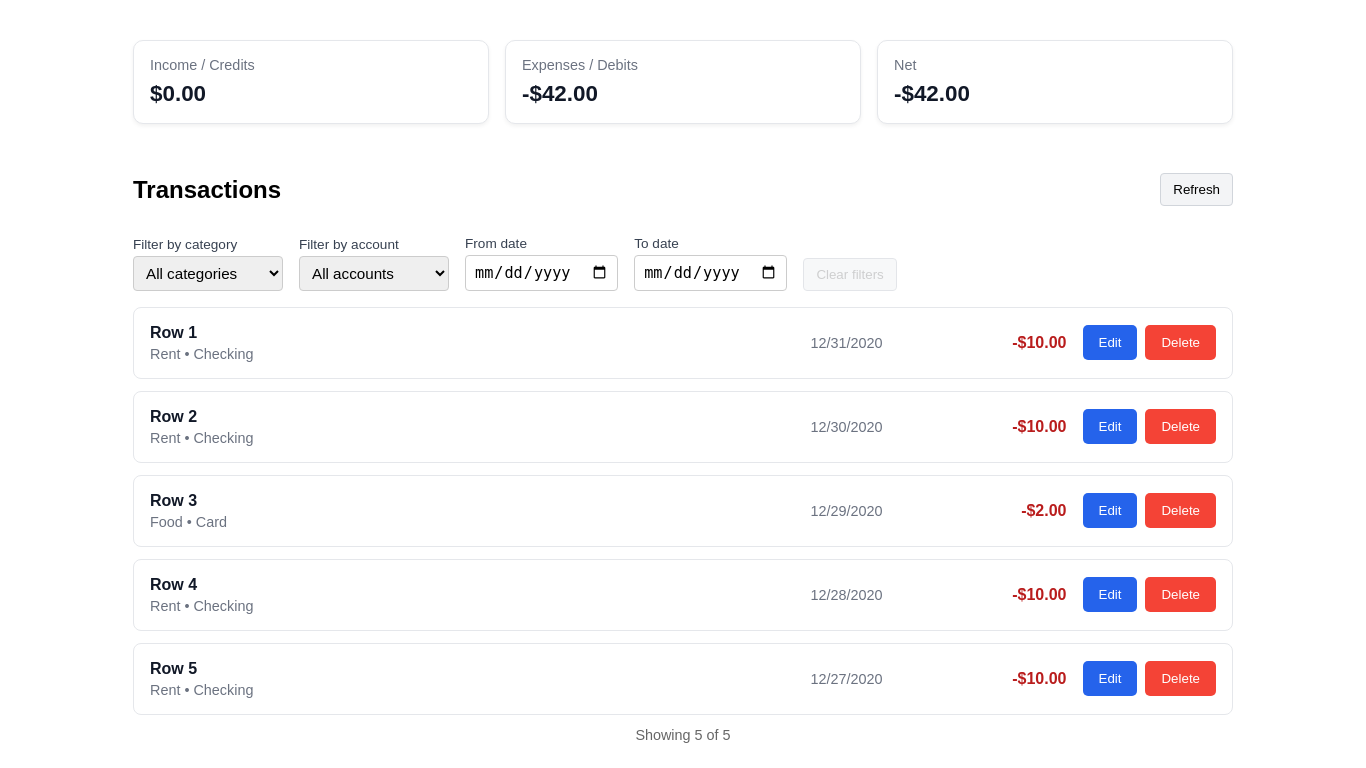
filtering › says so when nothing matches
expect the text "Showing 5 of 5" is shown: met, box [635,727,731,743]
Type "2021-06-01" into the date field labelled "From date" at [542, 273], box [465,255,618,291]
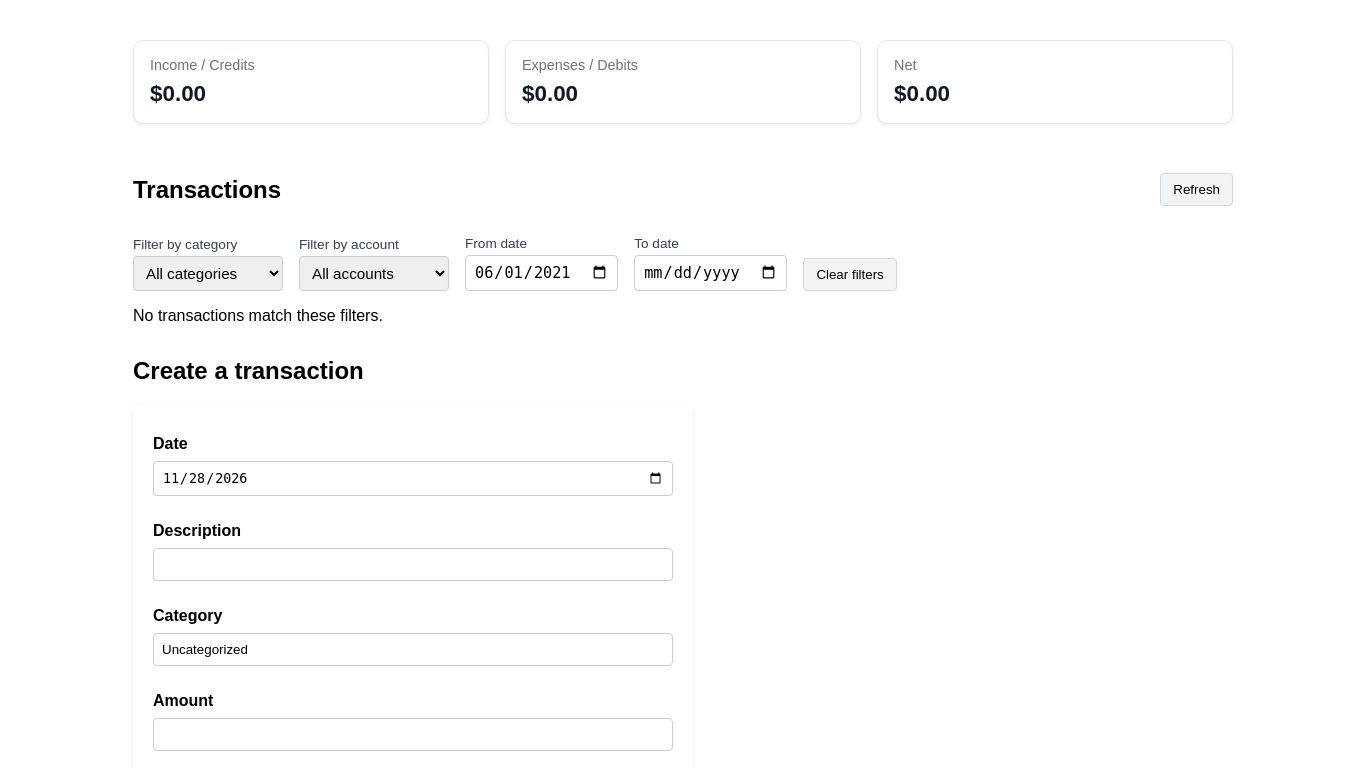
expect the text "No transactions match these filters." is shown: met, box [133,307,383,324]
Type "2021-01-01" into the date field labelled "To date" at [711, 273], box [634,255,787,291]
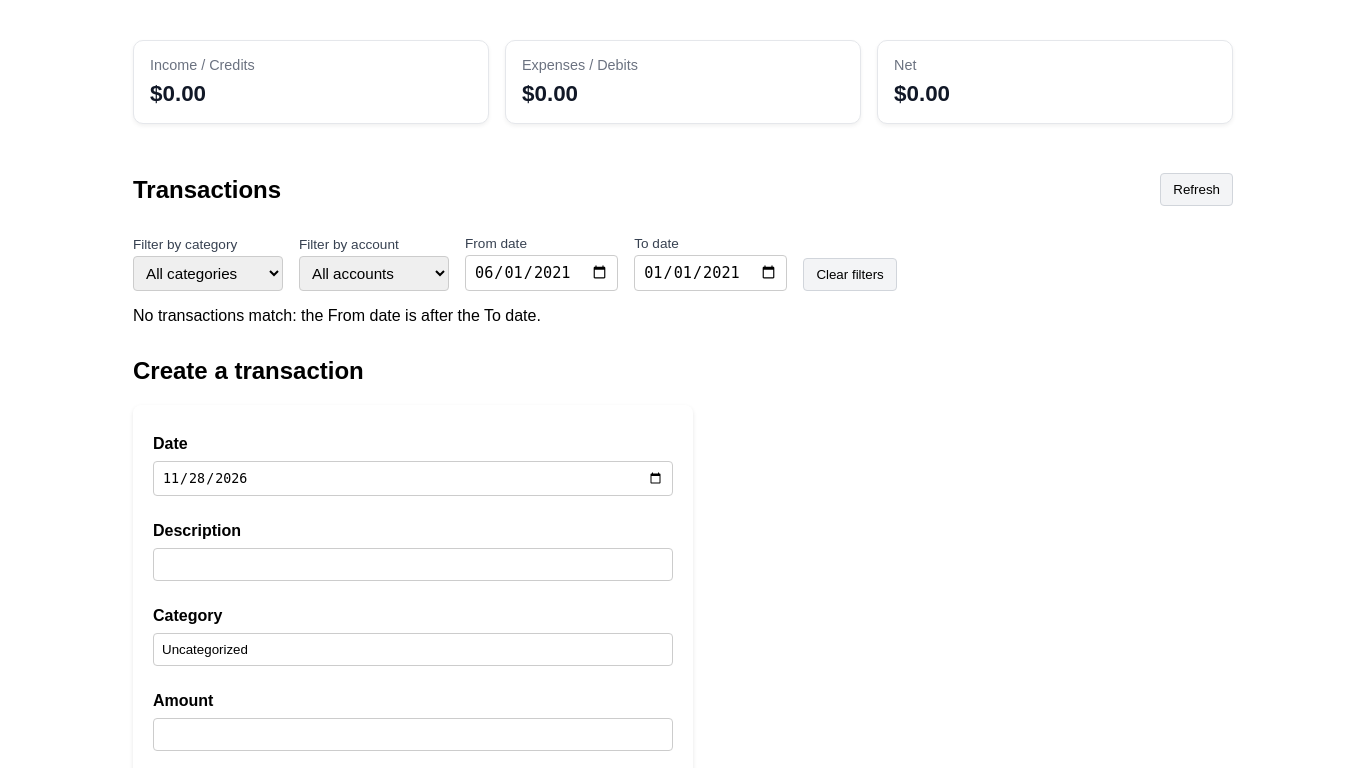
expect the text "No transactions match: the From date is after the To date." is shown: met, box [133,307,541,324]
